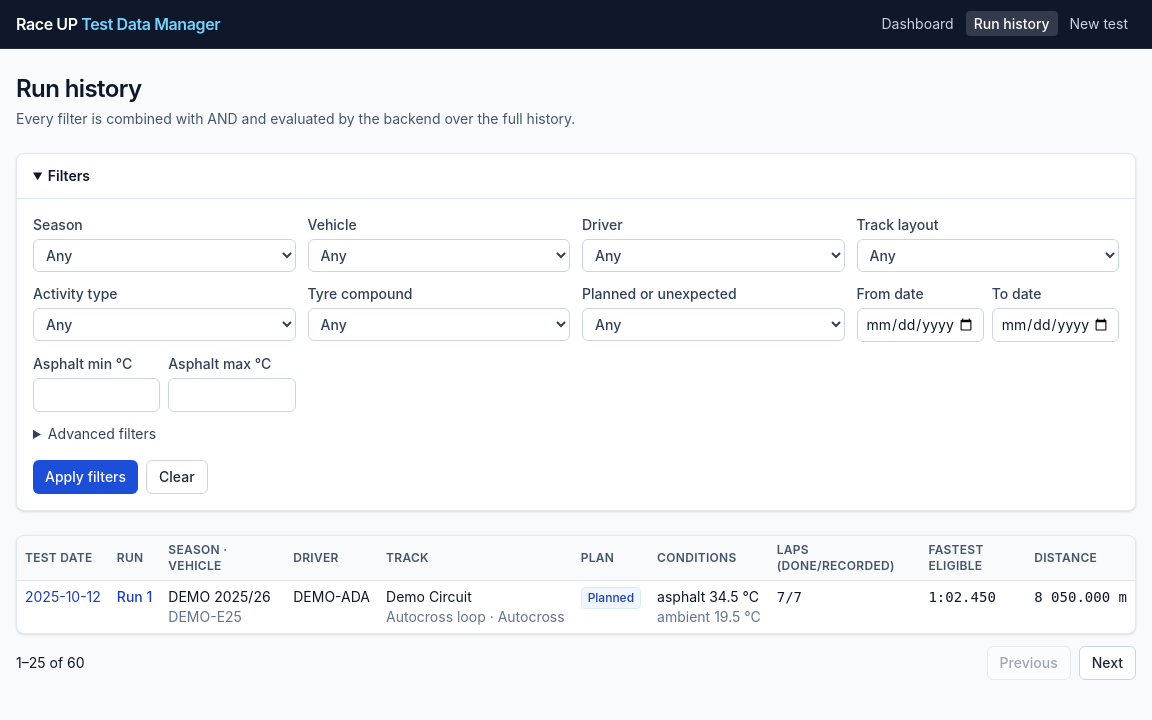
Test case: historical run browser › uses backend pagination metadata for next/previous
This screenshot has width=1152, height=720.
Expected: the text "1–25 of 60" is shown, [16,653,84,673]
Expected: the button "Previous" is disabled, [987,646,1071,680]
Click the button "Next": (1107, 663) [1079,646,1136,680]
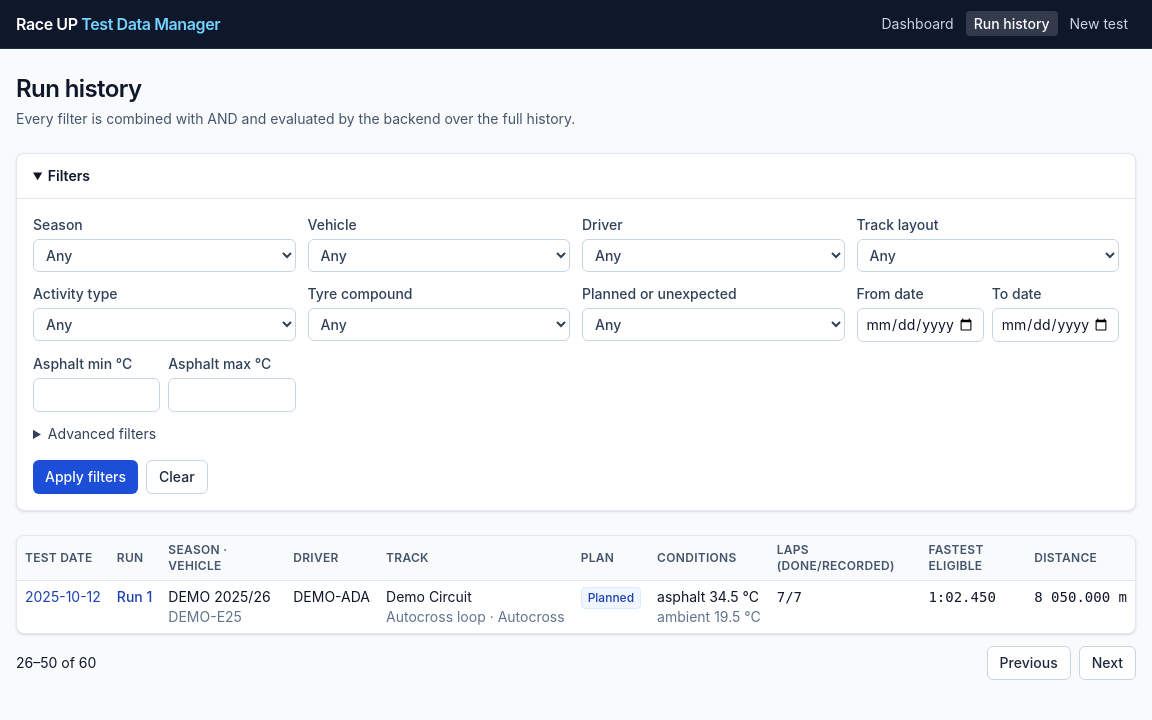
Expected: the text "26–50 of 60" is shown, [16,653,96,673]
